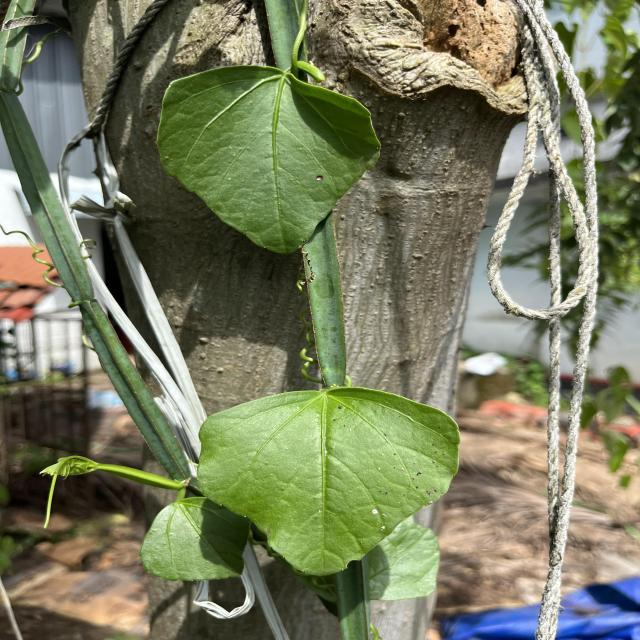Cissus quadrangularis: (194, 384, 464, 578), (153, 63, 384, 260), (137, 494, 253, 584)
